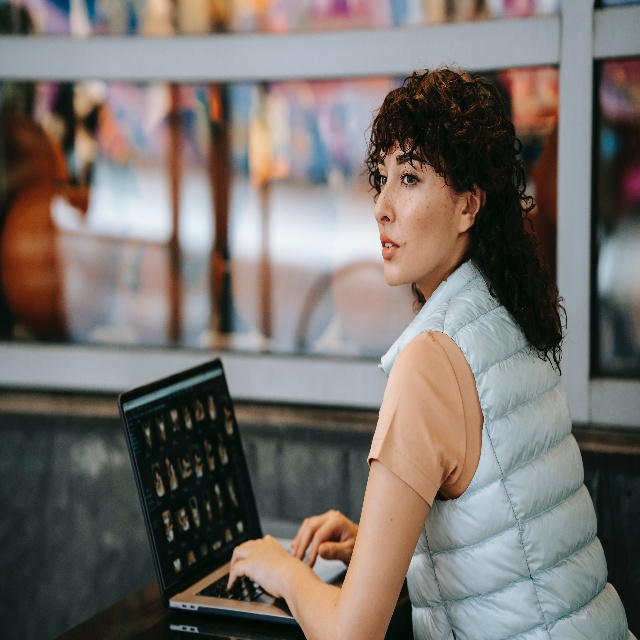Sin_guantes: (227, 533, 294, 599), (291, 509, 358, 569)
